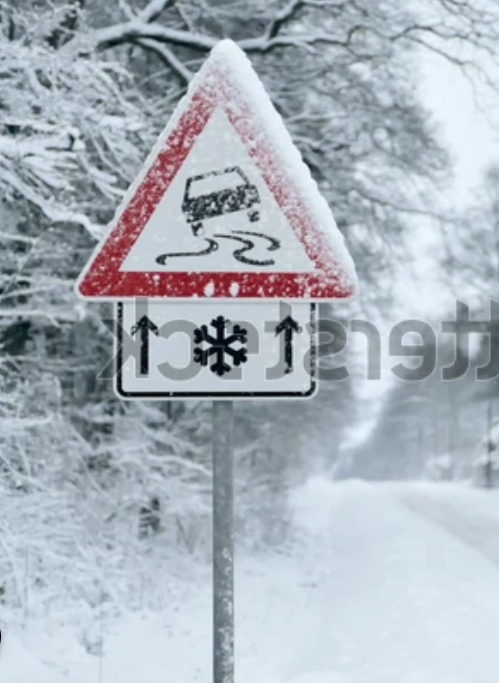Slippery road: (67, 37, 363, 300)
Snowy road: (106, 306, 344, 394)
